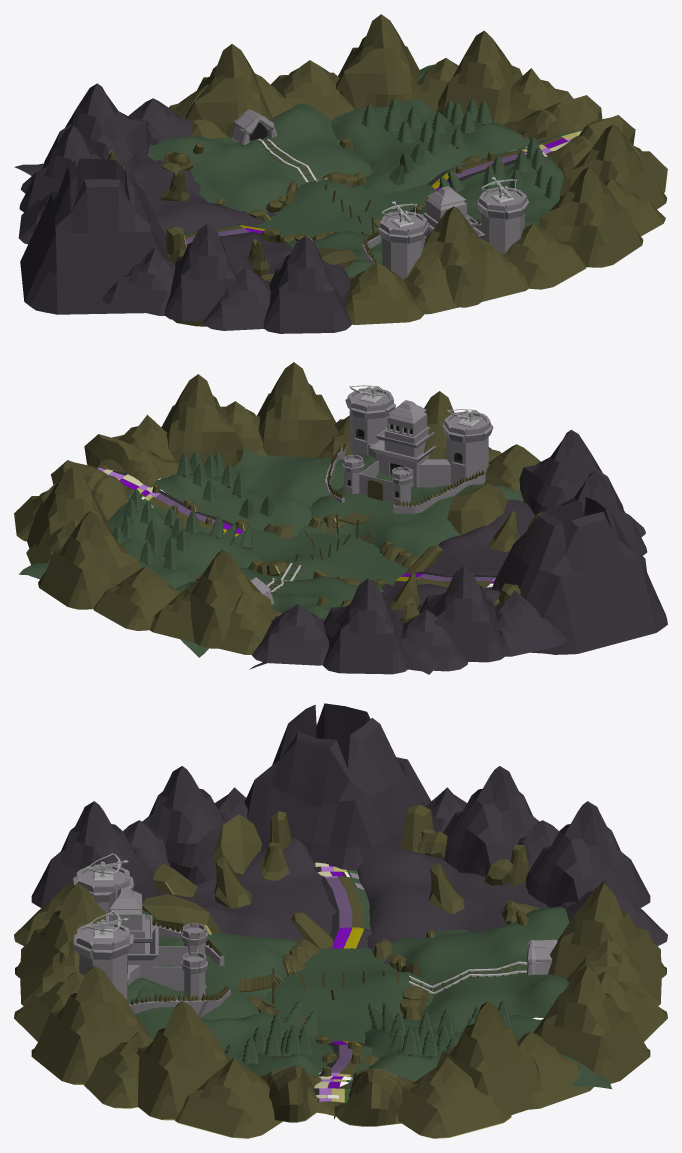
File: Level_001_LavaSnow_008.fbx
3 views of the same model, one above another, from view 1: azimuth 30°, elevation 25°; view 2: azimuth 150°, elevation 25°; view 3: azimuth 270°, elevation 25° (orthographic). The views are drawn at different scales.
Parts seen in each view (by area): view 1: WholeIsland_001, Water, pCylinder4, pCylinder6, pCube17, pCube75, pCube100; view 2: WholeIsland_001, Water, pCube17, pCylinder6, pCylinder4, pCube75, pCube18, pCylinder1, pCube80, pCylinder5, pCube16, pCube98; view 3: WholeIsland_001, Water, pCylinder4, pCube17, pCube76, pCube75, pCylinder6, pCube16, pCylinder5, pCube79, pCube74, pCube98 (+2 smaller).
Boxes of the visible parts, x1,y1,x2,y2 form: WholeIsland_001: [14, 14, 667, 333]; Water: [184, 129, 582, 245]; pCylinder4: [476, 187, 529, 254]; pCylinder6: [378, 211, 429, 279]; pCube17: [421, 186, 485, 238]; pCube75: [318, 247, 356, 268]; pCube100: [166, 225, 186, 255]; WholeIsland_001: [14, 362, 667, 674]; Water: [98, 467, 496, 588]; pCube17: [369, 400, 436, 487]; pCylinder6: [442, 411, 493, 485]; pCylinder4: [345, 387, 395, 456]; pCube75: [447, 483, 507, 534]; pCube18: [419, 459, 450, 487]; pCylinder1: [390, 466, 412, 504]; pCube80: [393, 474, 485, 513]; pCylinder5: [342, 454, 364, 493]; pCube16: [359, 460, 413, 501]; pCube98: [406, 546, 442, 573]; WholeIsland_001: [14, 703, 667, 1138]; Water: [266, 862, 433, 1102]; pCylinder4: [73, 921, 133, 999]; pCube17: [106, 888, 158, 981]; pCube76: [213, 814, 261, 876]; pCube75: [142, 894, 221, 934]; pCylinder6: [73, 864, 133, 913]; pCube16: [152, 946, 198, 991]; pCylinder5: [181, 952, 207, 999]; pCube79: [400, 805, 433, 851]; pCube74: [152, 863, 197, 897]; pCube98: [291, 912, 333, 949].
Size of the model in its own units: 445714 by 101939 by 351208.
